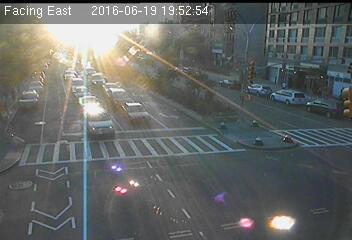neg: (234, 61, 254, 88), (274, 68, 287, 86), (220, 56, 233, 73), (314, 78, 325, 93)
